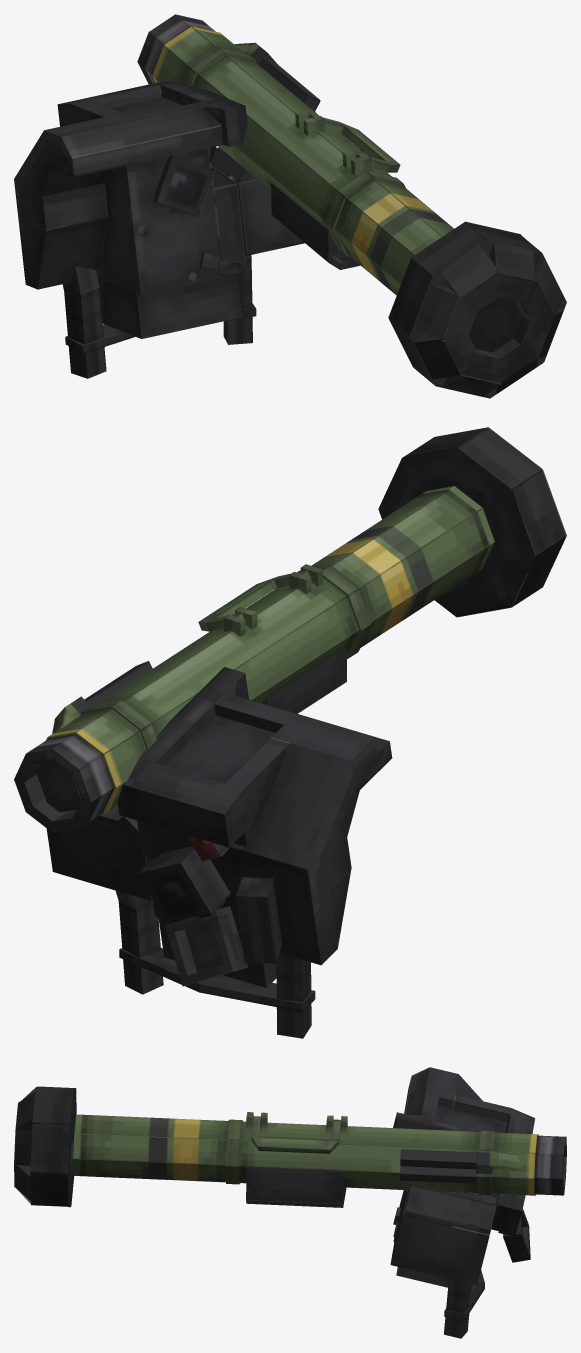
Rendered from javelin.obj.
3 renders of one model, top to bottom at view 1: azimuth 30°, elevation 25°; view 2: azimuth 150°, elevation 25°; view 3: azimuth 270°, elevation 25°, orthographic. The views are drawn at different scales.
Visible parts, largest first — view 1: gun_55, gun_55 (1); view 2: gun_55, gun_55 (1); view 3: gun_55, gun_55 (1).
Boxes of the visible parts, bbox=[...] form: gun_55: bbox=[14, 14, 453, 378]; gun_55 (1): bbox=[388, 221, 566, 398]; gun_55: bbox=[14, 486, 494, 1038]; gun_55 (1): bbox=[378, 427, 566, 617]; gun_55: bbox=[73, 1067, 566, 1338]; gun_55 (1): bbox=[14, 1086, 76, 1207].
Size of the model in its own units: 2.28 by 2.6 by 5.53.
